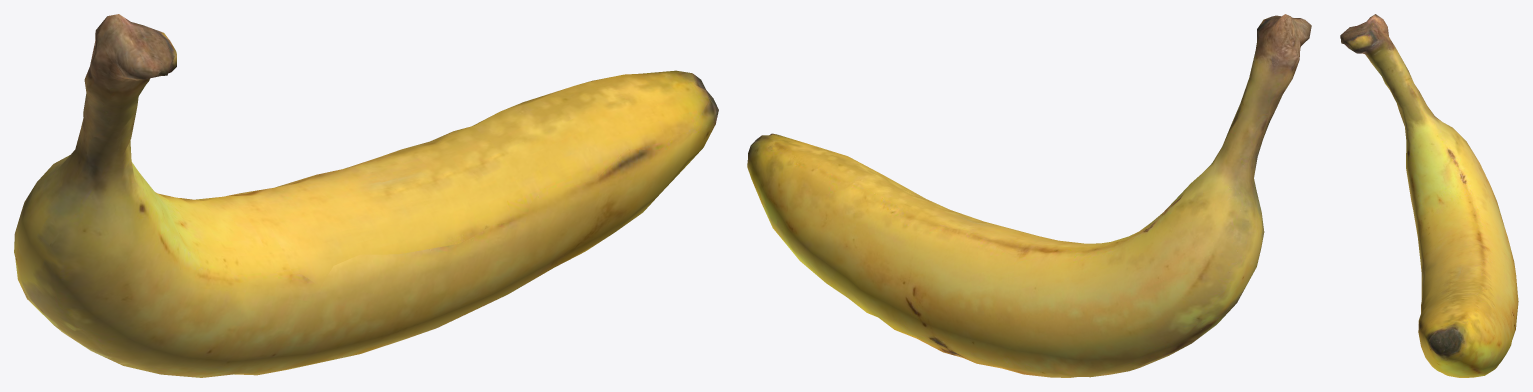
Rendered from YellowFruitBanana.fbx.
3 views of the same model, side by side, from view 1: azimuth 30°, elevation 25°; view 2: azimuth 150°, elevation 25°; view 3: azimuth 270°, elevation 25° (orthographic). The views are drawn at different scales.
Visible parts, largest first — view 1: Banana; view 2: Banana; view 3: Banana.
Boxes of the visible parts, x1=… form: Banana: x1=14, y1=14, x2=718, y2=377; Banana: x1=747, y1=14, x2=1311, y2=377; Banana: x1=1340, y1=14, x2=1518, y2=377.
Size of the model in its own units: 0.1438 by 0.0607 by 0.0952.
Materials: 1 (1 with a texture image).
